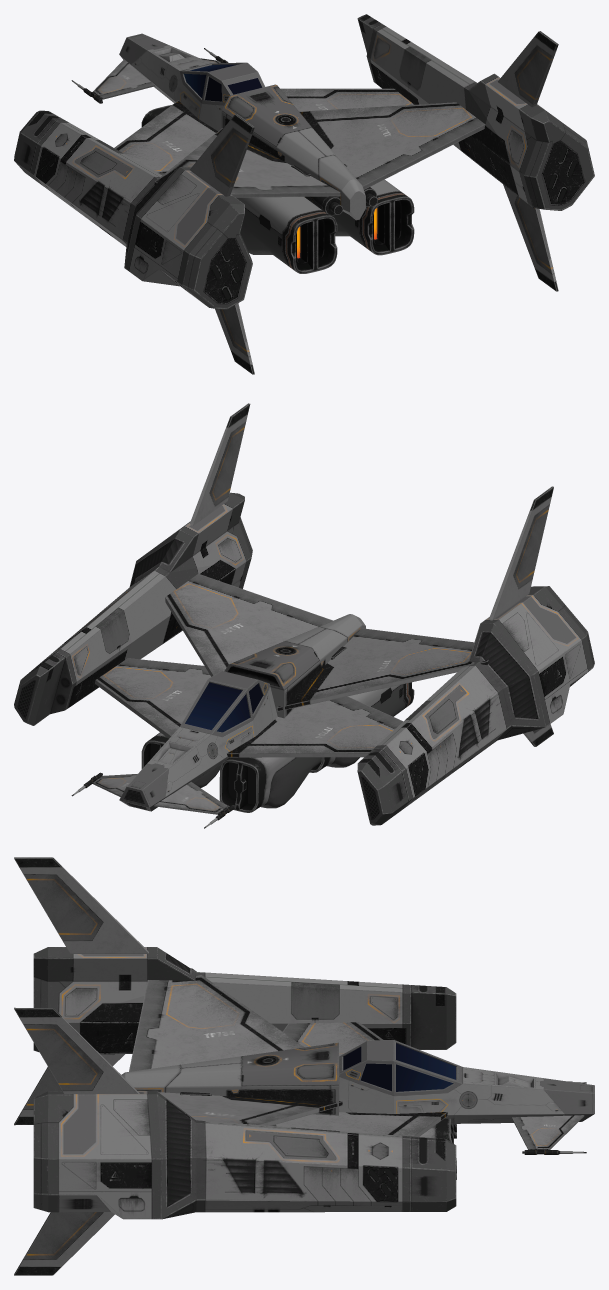
File: battleship6.gltf
3 renders of one model, top to bottom at view 1: azimuth 30°, elevation 25°; view 2: azimuth 150°, elevation 25°; view 3: azimuth 270°, elevation 25°, orthographic. The views are drawn at different scales.
Visible parts, largest first — view 1: MainBody13, MainBody13_Mirrored, Wing6_Mirrored (1), MainBody2, Cockpit3_WithoutInterior, Engine1 (3), Wing6 (1), Wing6, Engine1 (2), Wing2, Wing6_Mirrored, Wing2_Mirrored (+4 smaller); view 2: MainBody13, MainBody13_Mirrored, Cockpit3_WithoutInterior, Wing6_Mirrored (1), Wing6 (1), Wing6, Wing6_Mirrored, MainBody2, Engine1 (1), Wing2, Wing2_Mirrored, Engine1 (3) (+3 smaller); view 3: MainBody13_Mirrored, MainBody13, Cockpit3_WithoutInterior, Wing6 (1), MainBody2, Wing2, Wing2_Mirrored, Wing6_Mirrored (1), Wing2_Mirrored (1), Wing6_Mirrored, Wing6, Wing6_Mirrored (2) (+1 smaller).
Part boxes in pixels (box(x1,y1,x2,y2)): MainBody13: box(14, 110, 252, 309); MainBody13_Mirrored: box(357, 14, 594, 210); Wing6_Mirrored (1): box(299, 102, 485, 189); MainBody2: box(221, 84, 365, 220); Cockpit3_WithoutInterior: box(119, 33, 265, 130); Engine1 (3): box(236, 197, 337, 273); Wing6 (1): box(154, 128, 340, 197); Wing6: box(114, 100, 217, 175); Engine1 (2): box(331, 179, 414, 255); Wing2: box(190, 114, 254, 196); Wing6_Mirrored: box(280, 88, 413, 111); Wing2_Mirrored: box(498, 31, 558, 107); MainBody13: box(357, 586, 594, 825); MainBody13_Mirrored: box(14, 492, 252, 725); Cockpit3_WithoutInterior: box(119, 671, 277, 811); Wing6_Mirrored (1): box(165, 573, 332, 676); Wing6 (1): box(276, 628, 488, 711); Wing6: box(226, 696, 402, 757); Wing6_Mirrored: box(95, 658, 210, 738); MainBody2: box(224, 614, 365, 718); Engine1 (1): box(219, 757, 321, 812); Wing2: box(488, 486, 553, 620); Wing2_Mirrored: box(190, 403, 250, 525); Engine1 (3): box(309, 682, 414, 772); MainBody13_Mirrored: box(33, 1091, 456, 1219); MainBody13: box(33, 947, 456, 1054); Cockpit3_WithoutInterior: box(339, 1040, 594, 1123); Wing6 (1): box(129, 968, 304, 1071); MainBody2: box(121, 1042, 338, 1115); Wing2: box(14, 857, 148, 953); Wing2_Mirrored: box(14, 1007, 139, 1093); Wing6_Mirrored (1): box(158, 1092, 342, 1125); Wing2_Mirrored (1): box(14, 1212, 114, 1275); Wing6_Mirrored: box(271, 1112, 447, 1136); Wing6: box(283, 1022, 382, 1056); Wing6_Mirrored (2): box(511, 1115, 584, 1149).
Bounding box in the file's own units: 11.83 × 6.87 × 13.09.
8 materials, 8 textured.
